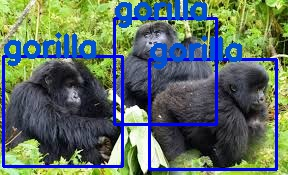gorilla: (148, 59, 275, 169), (3, 56, 121, 166), (114, 17, 216, 123)
